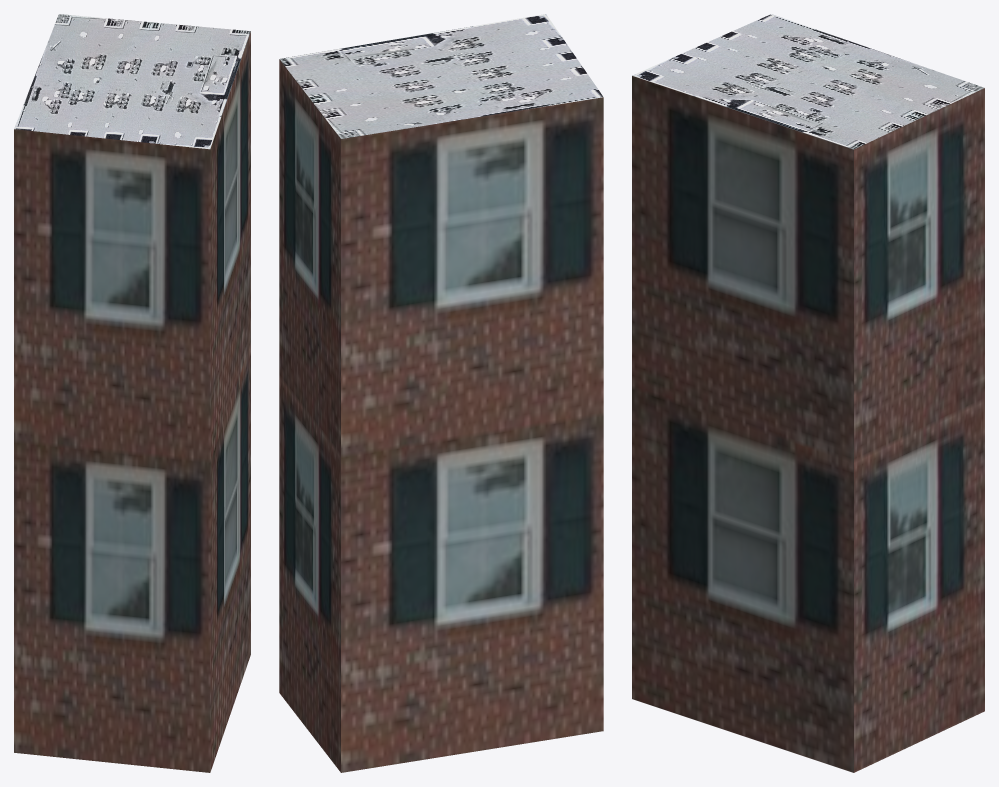
File: ResTex__4608.fbx
3 views of the same model, side by side, from view 1: azimuth 30°, elevation 25°; view 2: azimuth 150°, elevation 25°; view 3: azimuth 270°, elevation 25° (orthographic).
Parts seen in each view (by area): view 1: CityEngineMaterial_14_m, CityEngineMaterial_m; view 2: CityEngineMaterial_14_m, CityEngineMaterial_m; view 3: CityEngineMaterial_14_m, CityEngineMaterial_m.
Boxes of the visible parts, bbox=[...] form: CityEngineMaterial_14_m: bbox=[14, 31, 250, 772]; CityEngineMaterial_m: bbox=[14, 14, 250, 149]; CityEngineMaterial_14_m: bbox=[279, 59, 603, 772]; CityEngineMaterial_m: bbox=[279, 14, 603, 138]; CityEngineMaterial_14_m: bbox=[632, 76, 984, 772]; CityEngineMaterial_m: bbox=[632, 14, 984, 149].
Size of the model in its own units: 2.8 by 6 by 3.08.
Materials: 2 (2 with a texture image).
